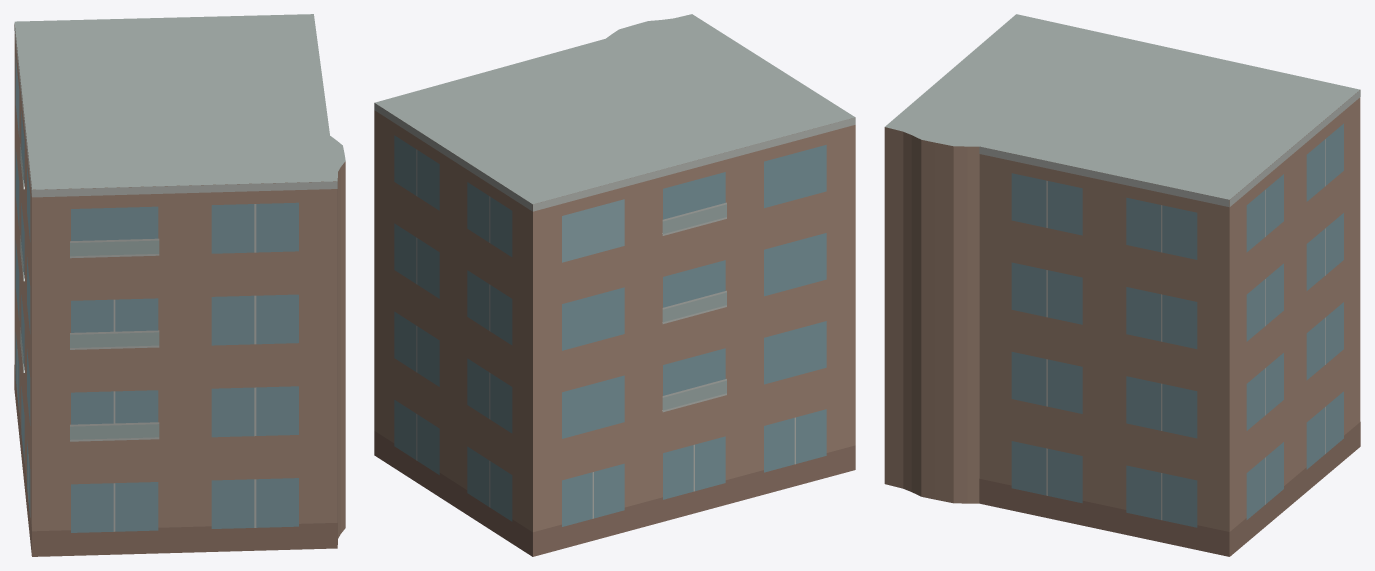
Rendered from survey-upis-32906480.glb.
3 views of the same model, side by side, from view 1: azimuth 30°, elevation 25°; view 2: azimuth 150°, elevation 25°; view 3: azimuth 270°, elevation 25° (orthographic). The views are drawn at different scales.
Visible parts, largest first — view 1: survey-upis-32906480.tmp; view 2: survey-upis-32906480.tmp; view 3: survey-upis-32906480.tmp.
Boxes of the visible parts, left/top/right/bottom form: survey-upis-32906480.tmp: left=14, top=14, right=345, bottom=556; survey-upis-32906480.tmp: left=374, top=14, right=855, bottom=556; survey-upis-32906480.tmp: left=884, top=14, right=1360, bottom=556.
Size of the model in its own units: 13.07 by 11.7 by 14.14.
